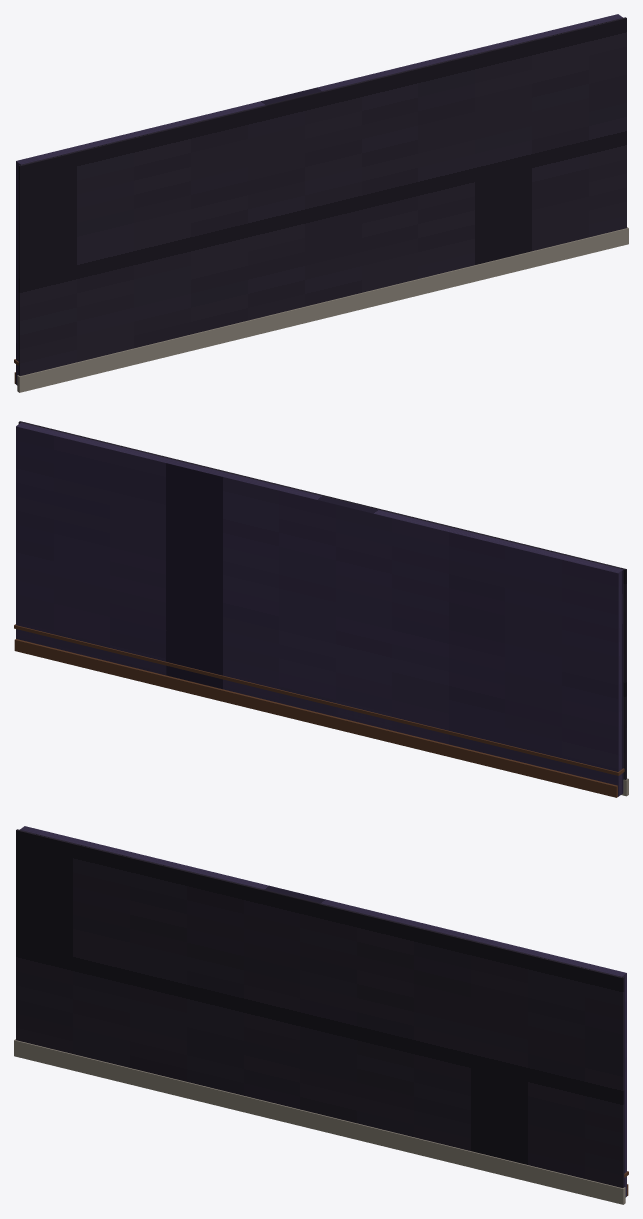
Rendered from back.glb.
3 views of the same model, one above another, from view 1: azimuth 30°, elevation 25°; view 2: azimuth 150°, elevation 25°; view 3: azimuth 330°, elevation 25° (orthographic).
Parts seen in each view (by area): view 1: Box3, Box4, Box1; view 2: Box1, Box2, Box6, Box5, Box3; view 3: Box3, Box4, Box1.
Boxes of the visible parts, left/top/right/bottom form: Box3: left=18, top=17, right=626, bottom=375; Box4: left=17, top=227, right=628, bottom=392; Box1: left=16, top=14, right=622, bottom=385; Box1: left=16, top=422, right=623, bottom=796; Box2: left=14, top=639, right=617, bottom=797; Box6: left=14, top=624, right=624, bottom=775; Box5: left=16, top=629, right=623, bottom=794; Box3: left=18, top=421, right=626, bottom=779; Box3: left=16, top=829, right=624, bottom=1187; Box4: left=14, top=1039, right=625, bottom=1204; Box1: left=20, top=826, right=626, bottom=1197.
Bounding box in the file's own units: 10.27 × 3.64 × 0.25.
Materials: 4 (2 with a texture image).
